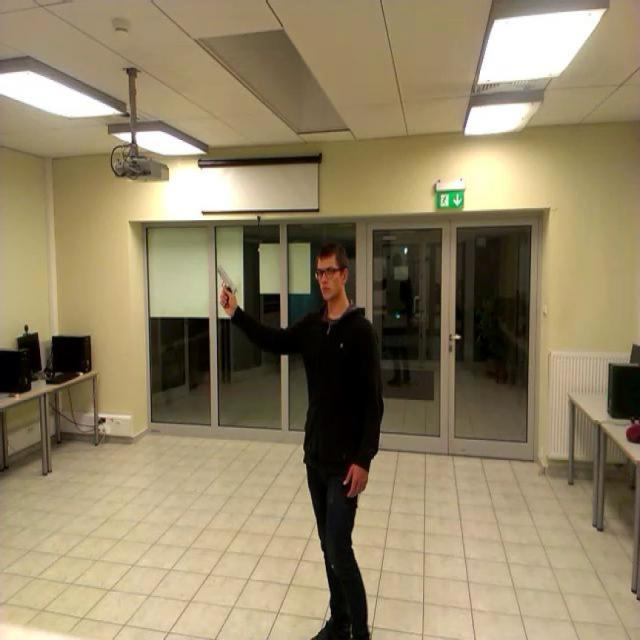pistol: (216, 261, 236, 307)
